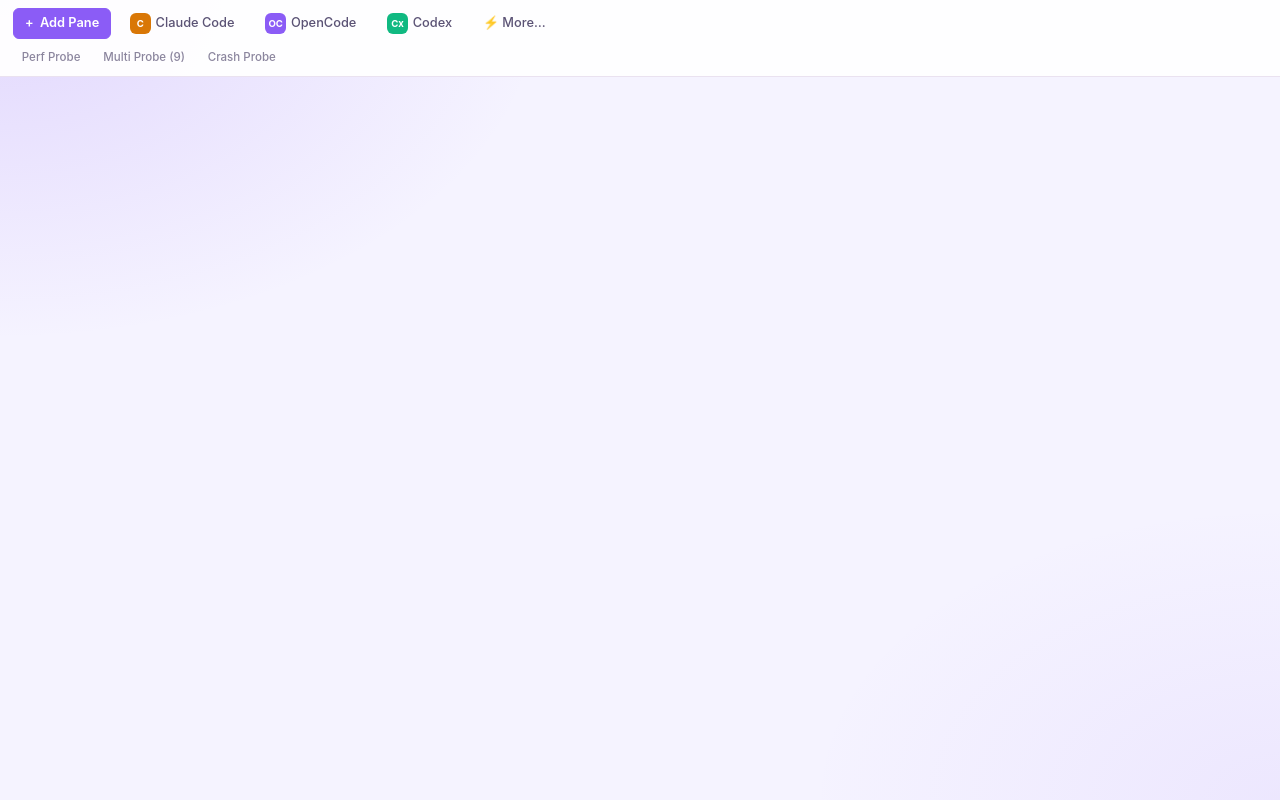
Test case: TerminalLauncher › runs multi-spawn probe when clicked
Click the button with test id "launcher-multi-probe". click: (144, 57)
box: [94,45,194,70]
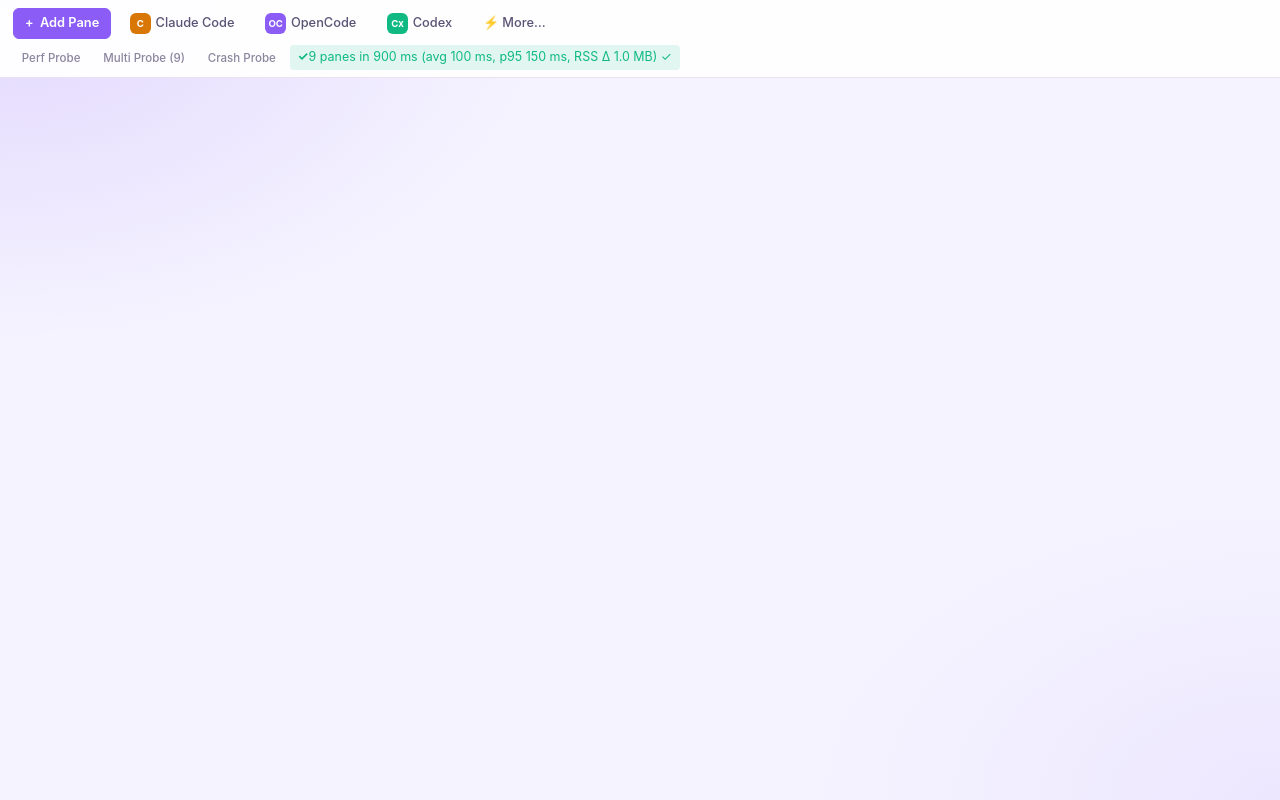
Now the text "9 panes in 900 ms (avg 100 ms, p95 150 ms, RSS Δ 1.0 MB) ✓" is shown, box [290,45,680,70]
